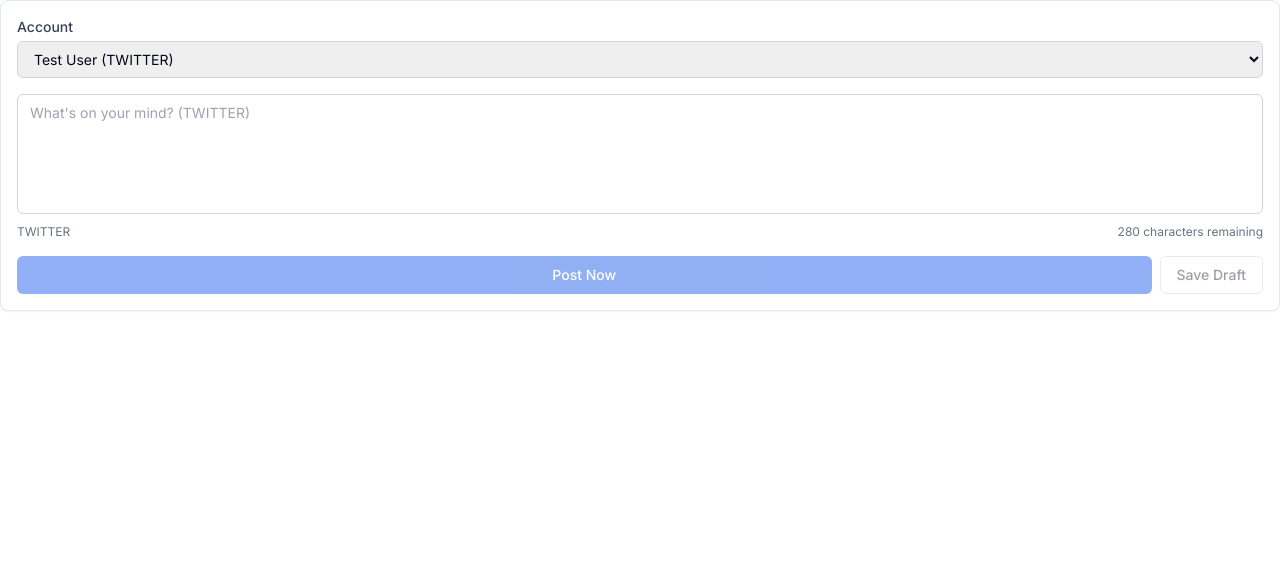
Test: PostComposer › should handle submit error
Type "Test post" into the text box named "Post content" at (640, 154), box [17,94,1263,214]
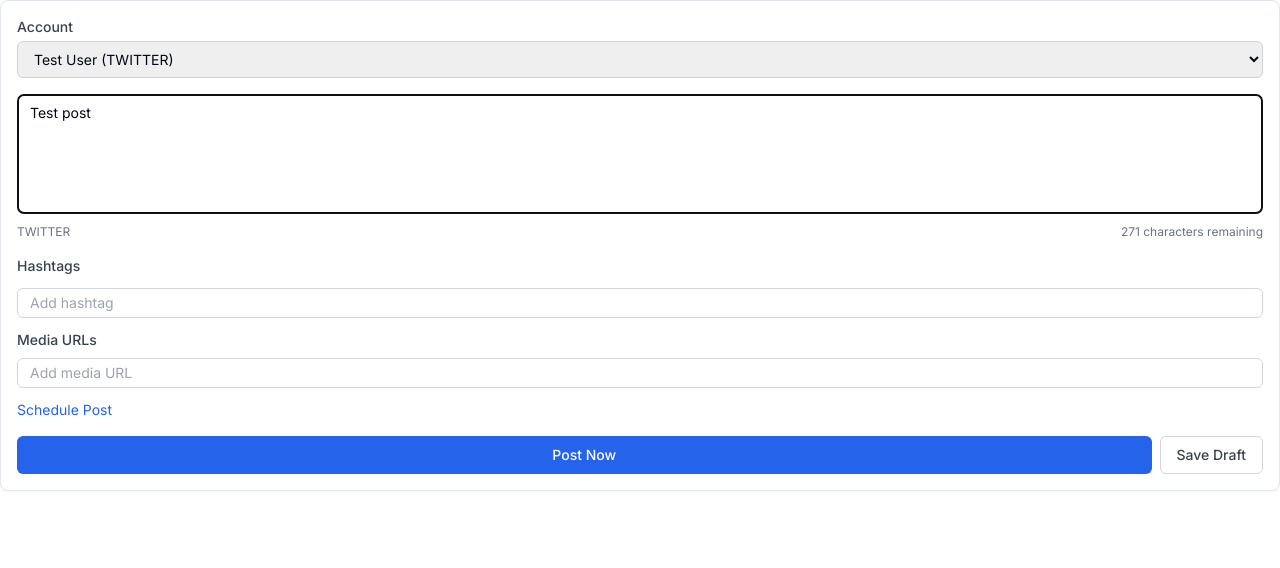
Click the button "Post Now" at (584, 455), box [17,436,1152,474]
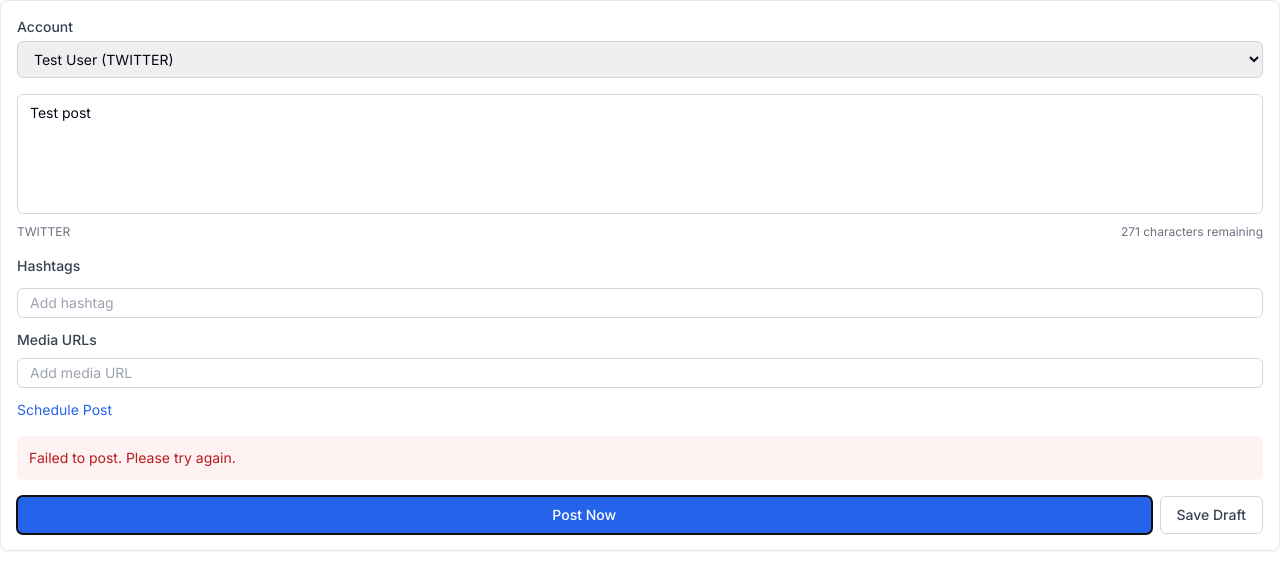
Expected: the text "Failed to post. Please try again." is shown, [17,436,1263,480]
